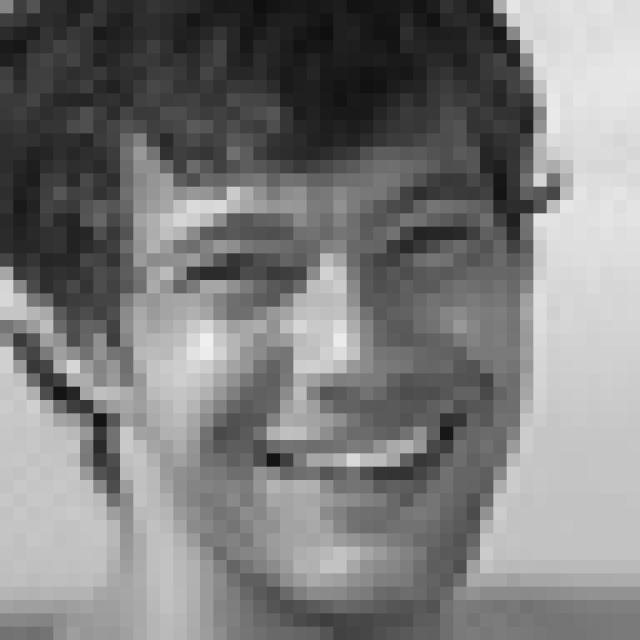happy: (158, 172, 503, 535)
